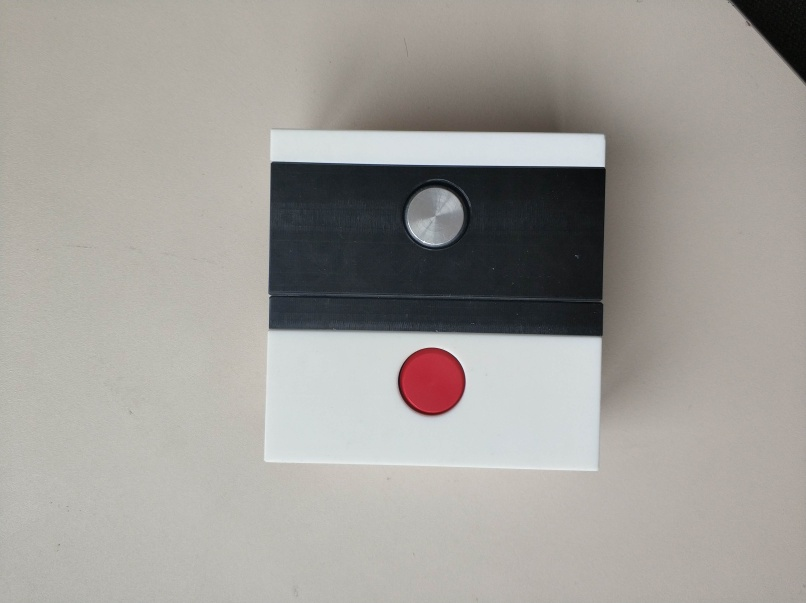black+white+red: (259, 299, 607, 477)
white+black+silver: (265, 128, 609, 303)
